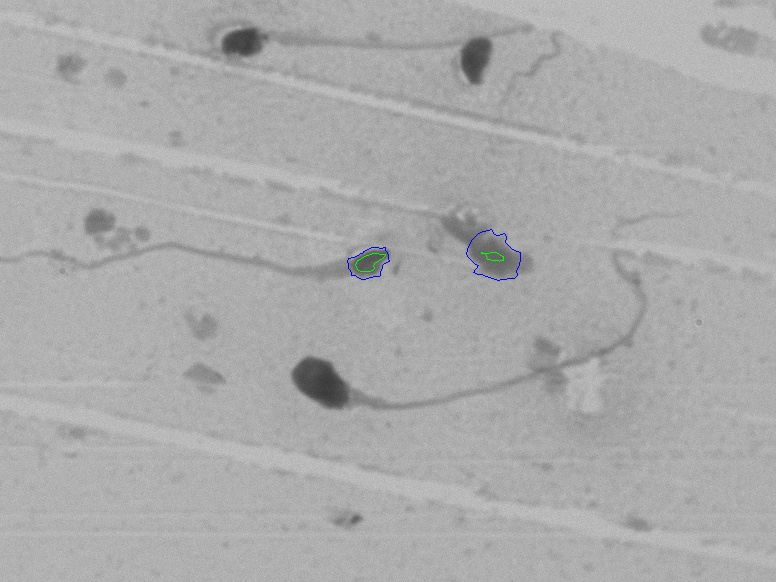Abnormal: (270, 301, 672, 469)
